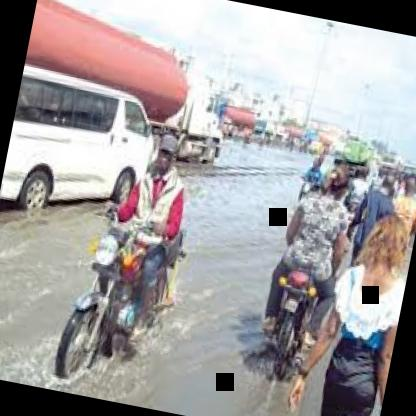car: (0, 56, 194, 246)
